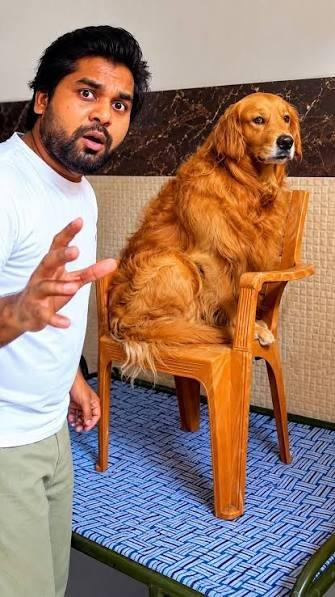adult_dog: (105, 91, 304, 385)
non-dog: (0, 24, 153, 597)
